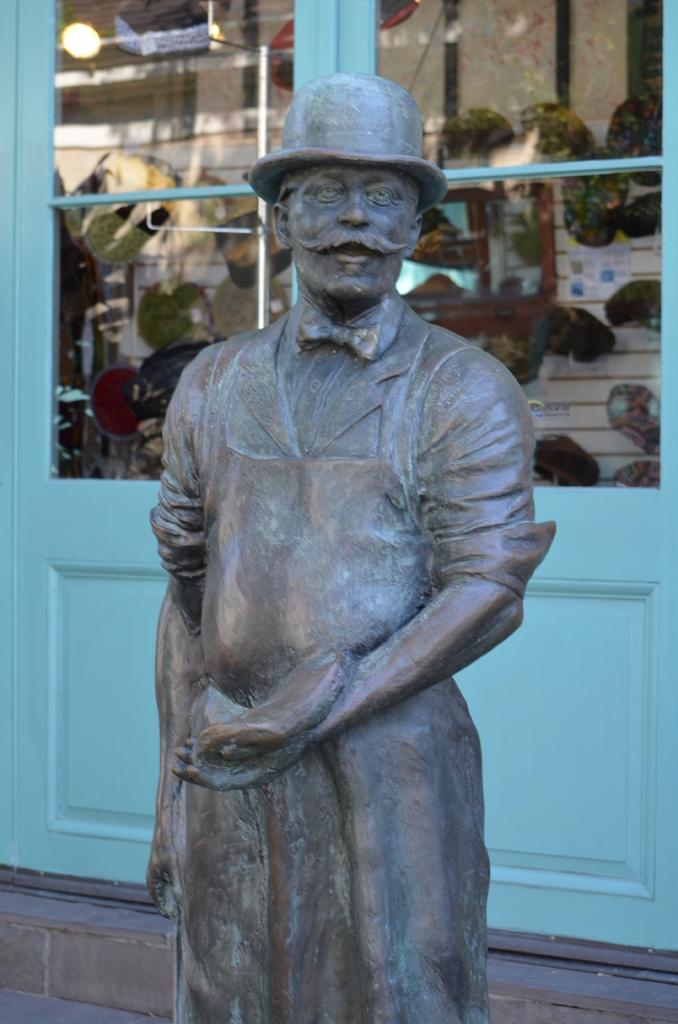Hat: (246, 70, 449, 224)
